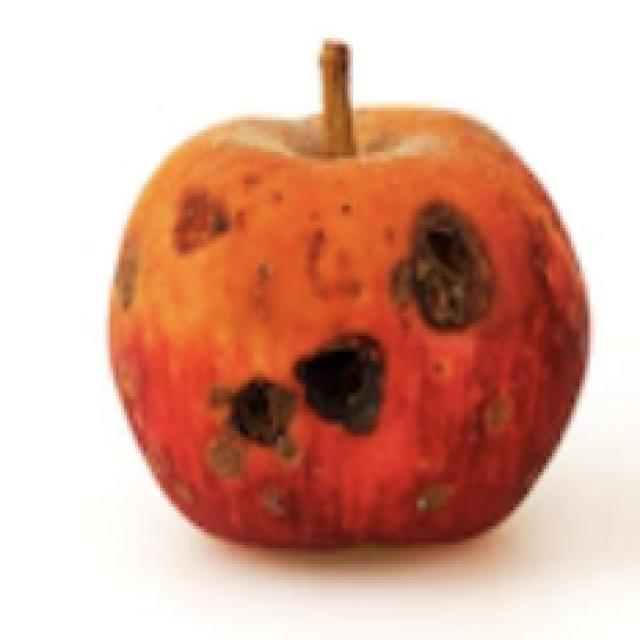Rotten: (98, 105, 590, 550)
